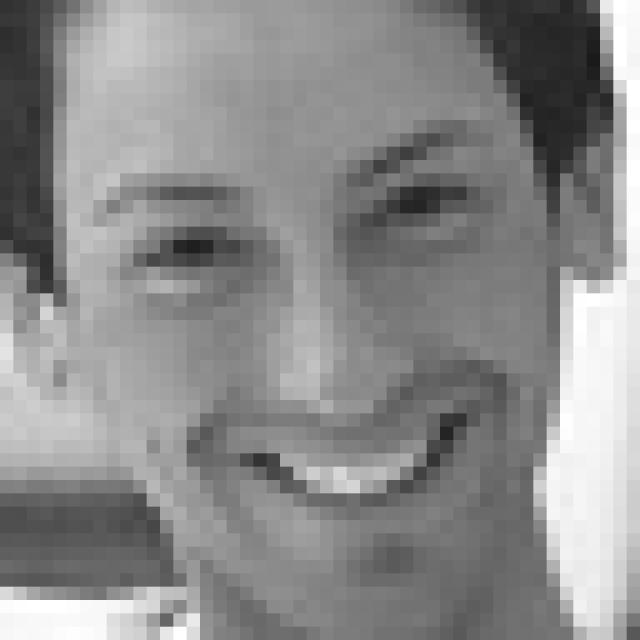happy: (94, 109, 508, 546)
